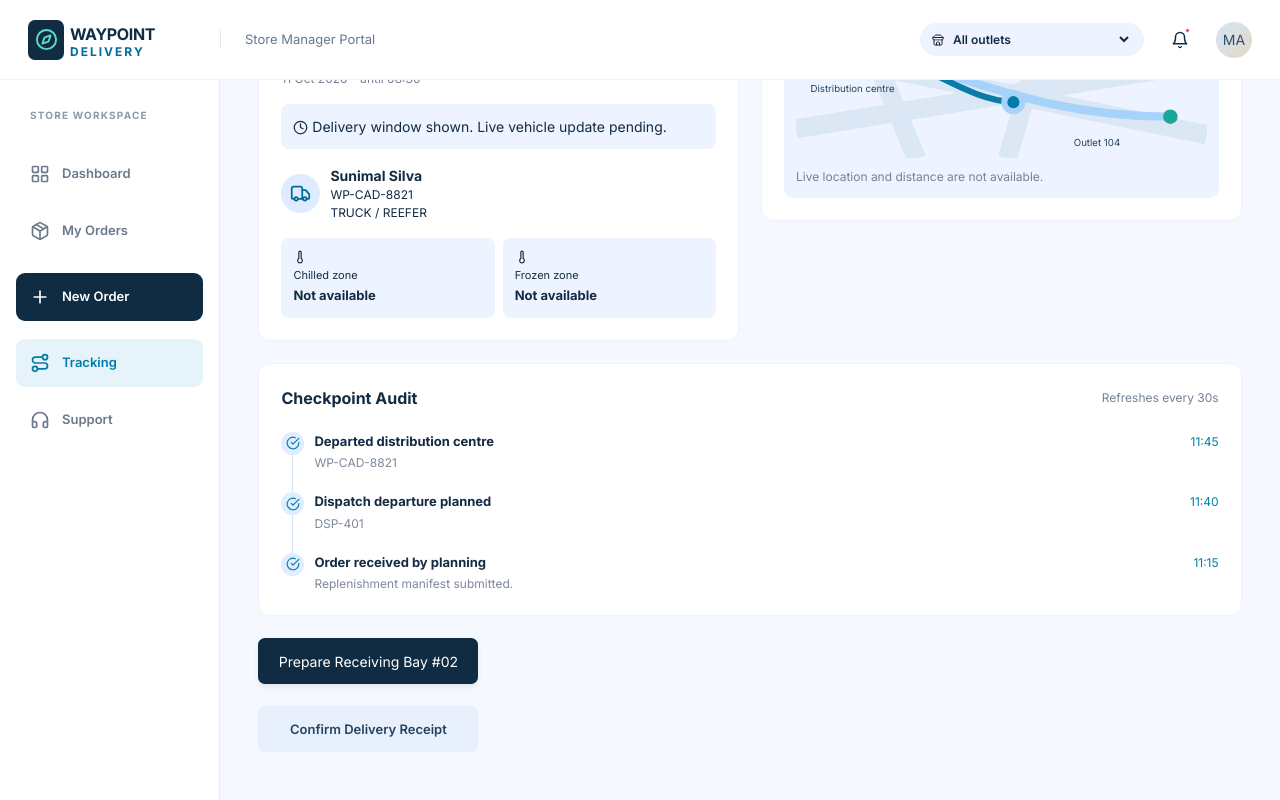
Store workflow › opens a modal over tracking without replacing the page
(page scrolled)
Click the button "Prepare Receiving Bay #02" at (368, 661), box [258,638,478,684]
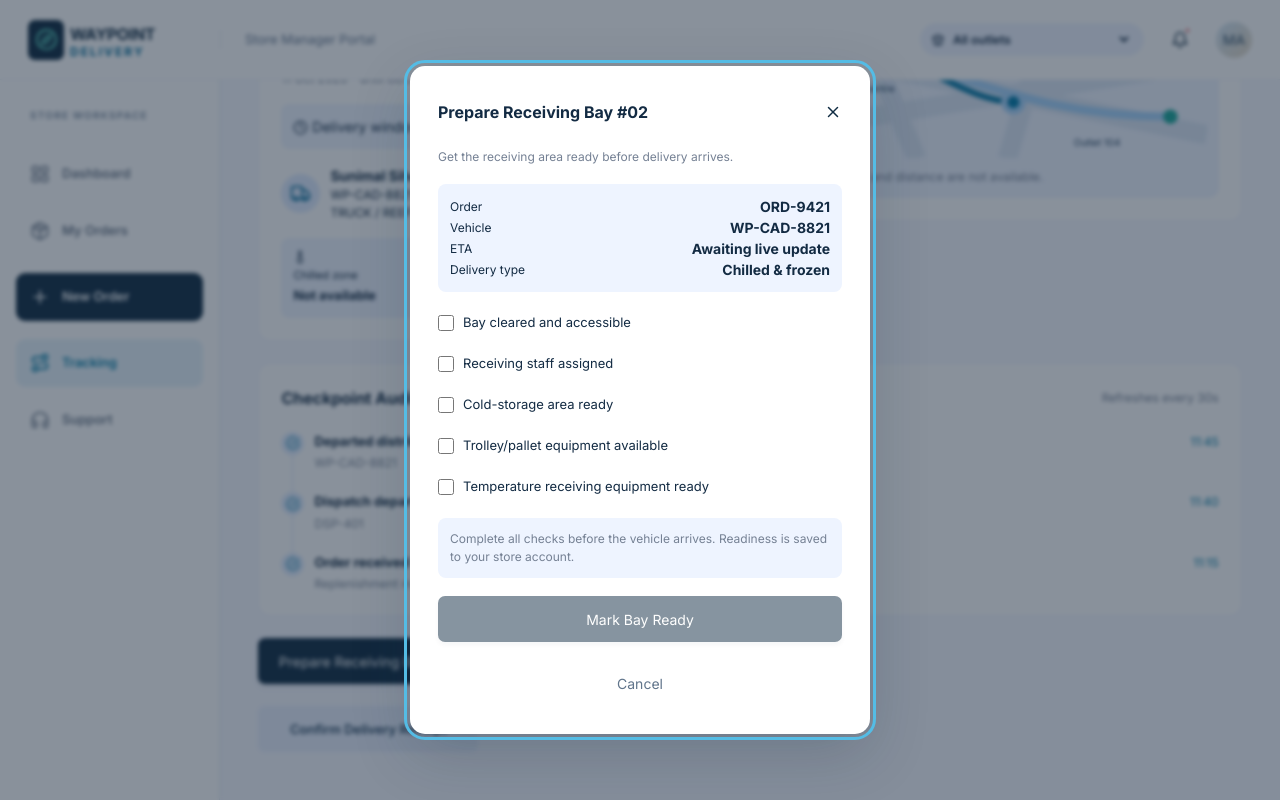
Expected: the dialog is shown, [410,66,870,734]
Click the button "Cancel" at (640, 683), box [438,660,842,706]
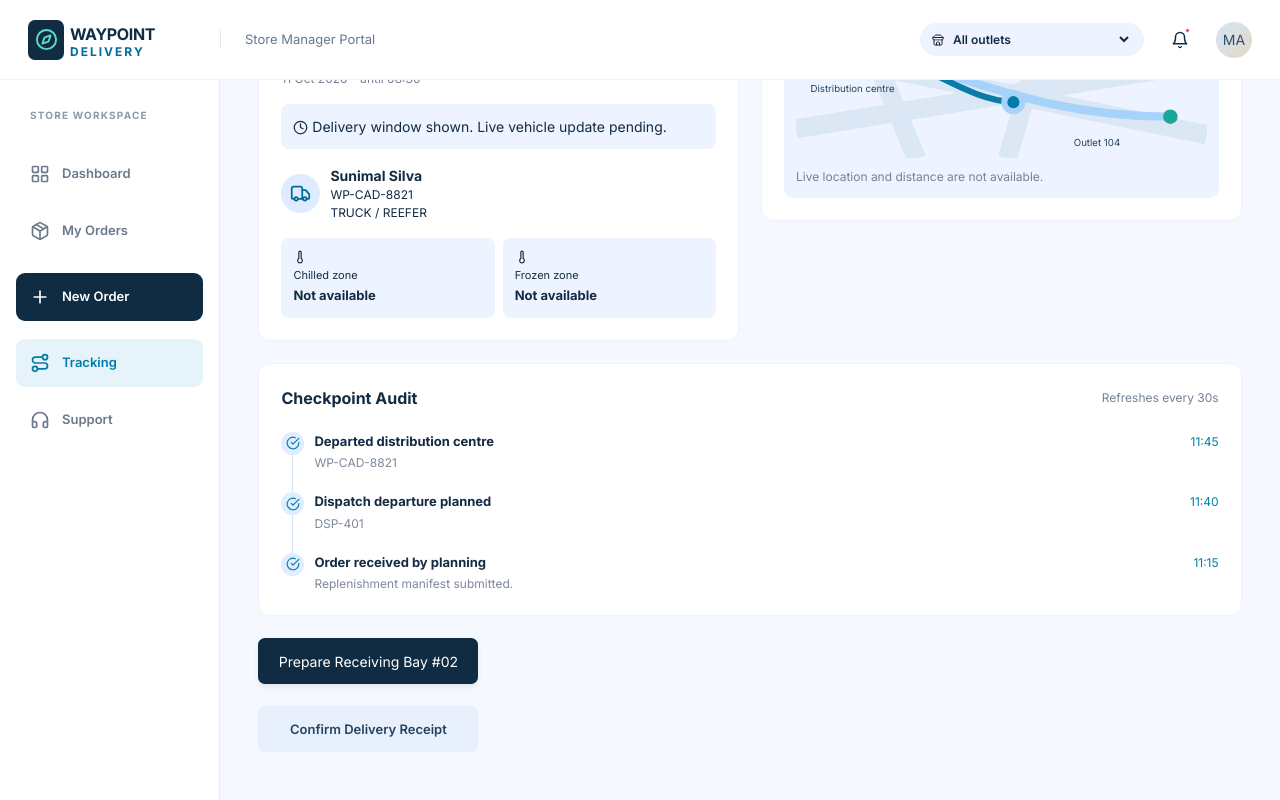
Expected: the dialog is gone
